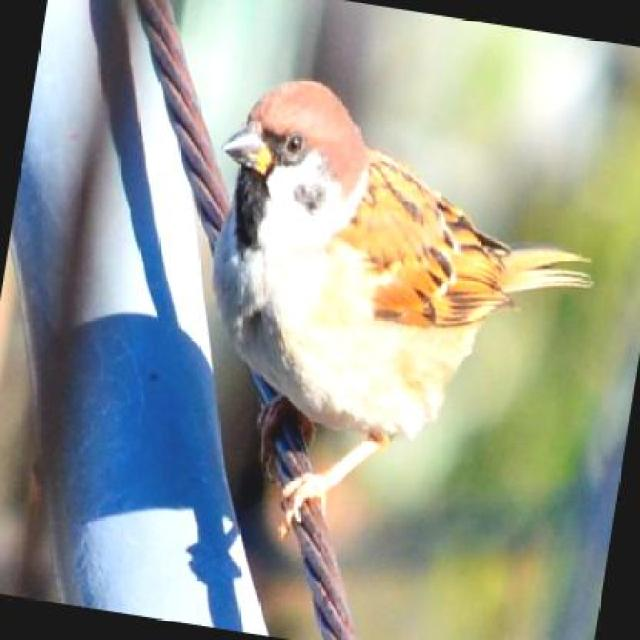sparrow: (165, 64, 618, 561)
